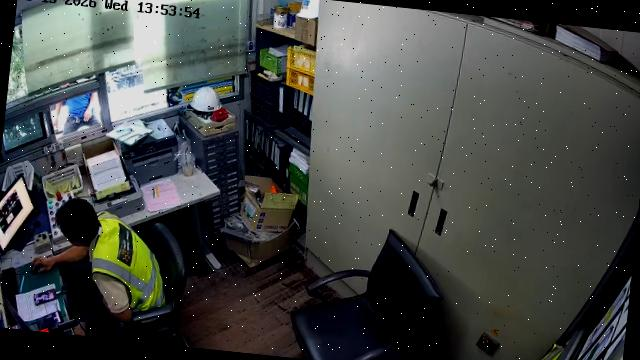Head: (57, 199, 101, 247)
People: (35, 198, 165, 338)
Phone: (37, 311, 63, 330), (34, 290, 57, 305)
